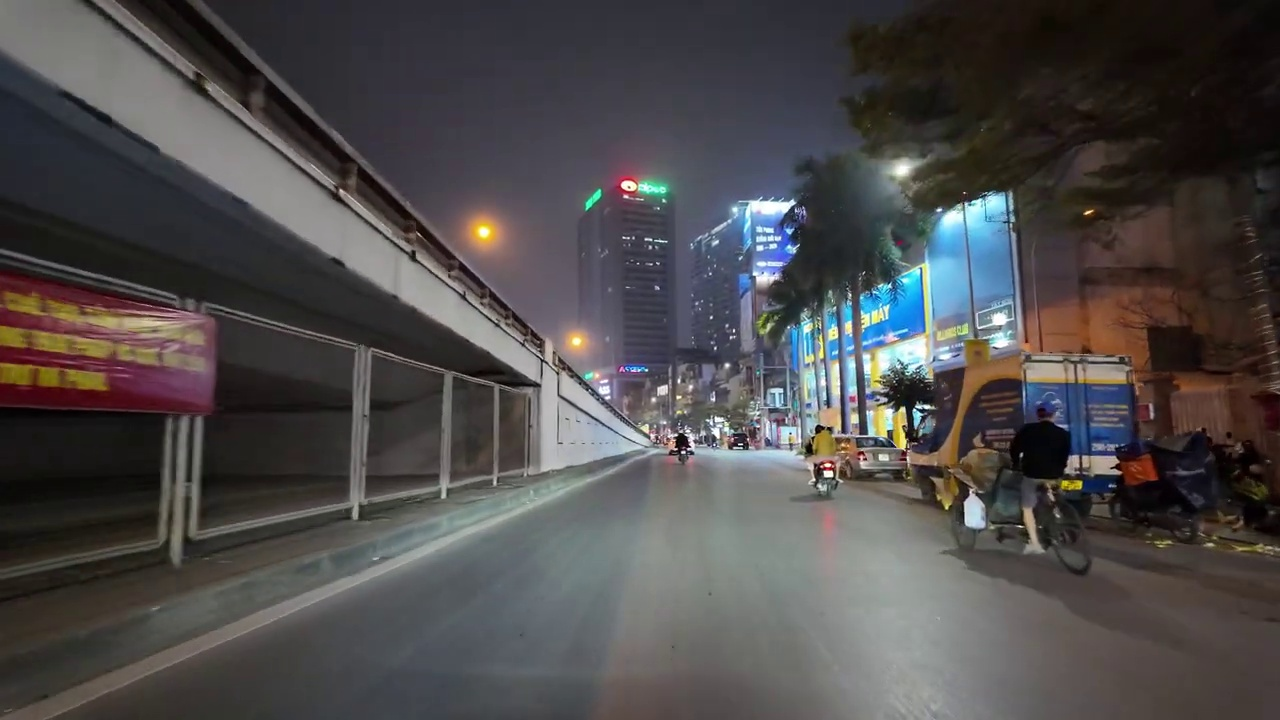acesa: (467, 216, 500, 247), (891, 158, 915, 183), (563, 330, 589, 353)
